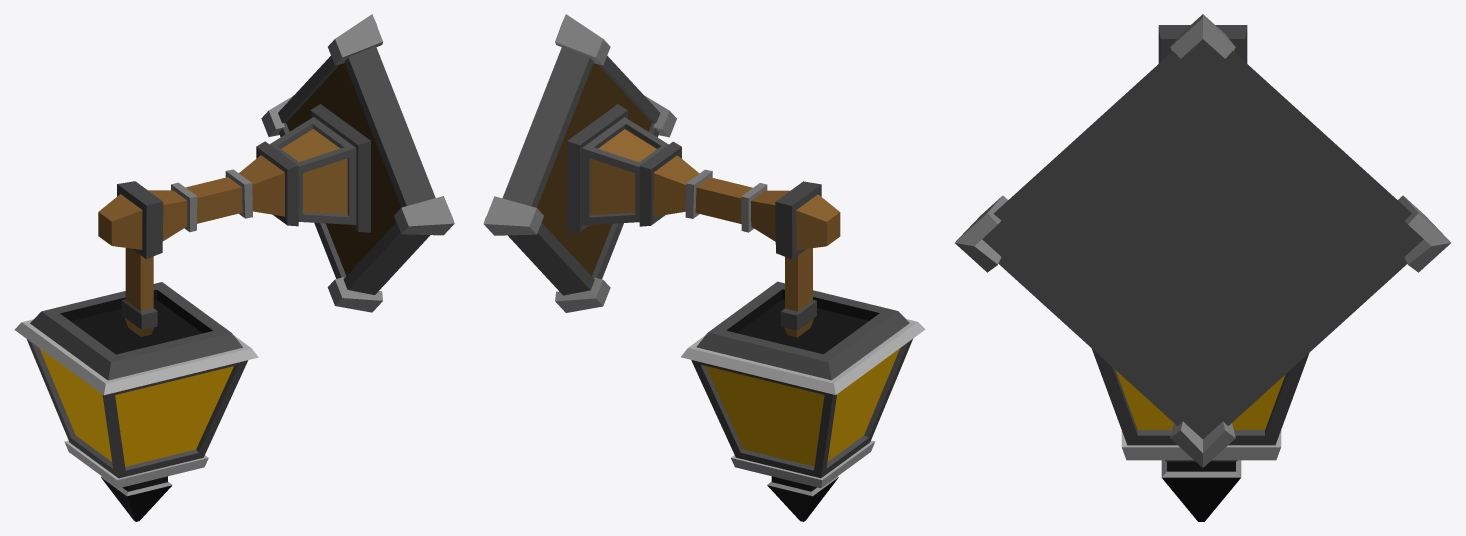
Rendered from Lamp.fbx.
3 renders of one model, left to right at view 1: azimuth 30°, elevation 25°; view 2: azimuth 150°, elevation 25°; view 3: azimuth 270°, elevation 25°, orthographic. The views are drawn at different scales.
Parts seen in each view (by area): view 1: Lamp; view 2: Lamp; view 3: Lamp.
Boxes of the visible parts, <box> form: Lamp: <box>14,14,454,521</box>; Lamp: <box>483,14,925,521</box>; Lamp: <box>955,14,1450,521</box>.
Size of the model in its own units: 528 by 711 by 473.
